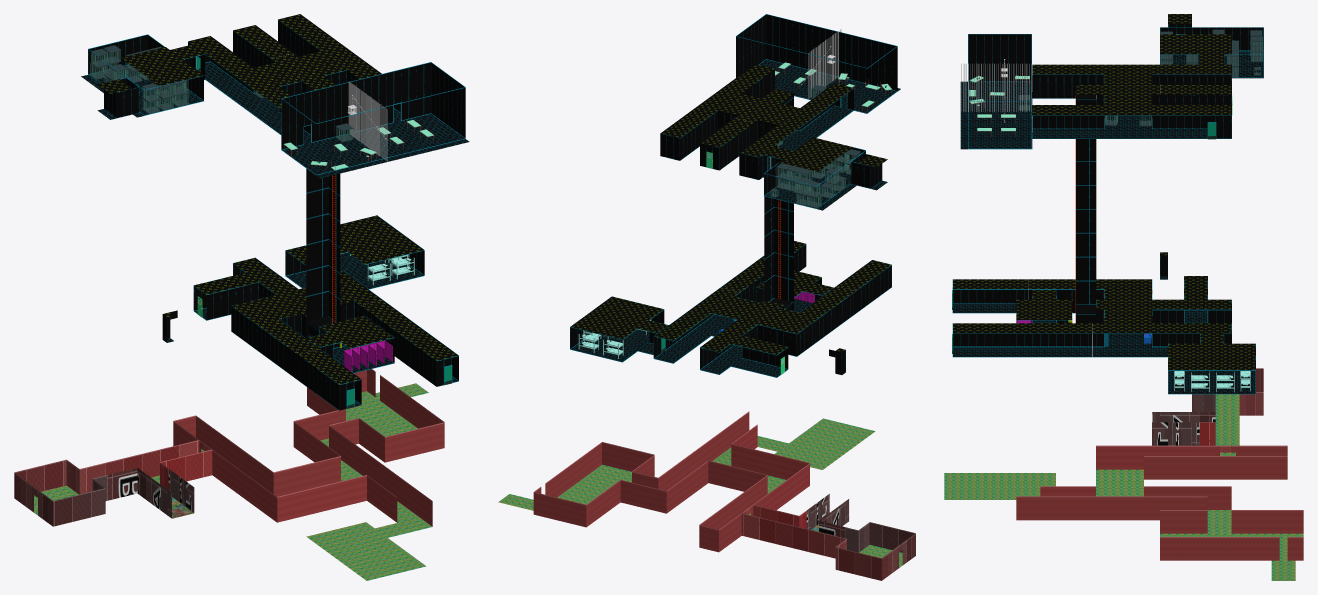
The model's file is house_build_ver2.glb.
The picture shows the model from 3 angles, left to right: view 1: azimuth 30°, elevation 25°; view 2: azimuth 150°, elevation 25°; view 3: azimuth 270°, elevation 25°; orthographic projection. The views are drawn at different scales.
Visible parts, largest first — view 1: 000-malli, wall_2, roof, roof_2, floor_2, wall, outer_shaft.003, floor, Board.002, Board; view 2: 000-malli, wall_2, roof, roof_2, wall, floor_2, floor, outer_shaft.003, Board.002, Board; view 3: 000-malli, roof, wall_2, roof_2, floor_2, floor, wall, outer_shaft.003, Board, Board.002.
Boxes of the visible parts, x1,y1,x2,y2 form: 000-malli: (14, 369, 444, 580); wall_2: (88, 20, 465, 149); roof: (194, 215, 458, 384); roof_2: (98, 14, 381, 109); floor_2: (89, 62, 469, 178); wall: (193, 250, 458, 410); outer_shaft.003: (306, 84, 340, 322); floor: (194, 252, 457, 406); Board.002: (88, 20, 465, 175); Board: (194, 215, 458, 409); 000-malli: (498, 411, 915, 580); wall_2: (660, 14, 897, 195); roof: (571, 241, 891, 354); roof_2: (660, 64, 887, 171); wall: (570, 244, 891, 369); floor_2: (759, 59, 900, 208); floor: (571, 298, 812, 377); outer_shaft.003: (764, 93, 793, 310); Board.002: (661, 14, 897, 208); Board: (570, 244, 891, 377); 000-malli: (944, 368, 1303, 580); roof: (952, 276, 1255, 370); wall_2: (968, 27, 1263, 138); roof_2: (1032, 14, 1231, 115); floor_2: (960, 51, 1263, 149); floor: (952, 303, 1255, 393); wall: (953, 290, 1231, 346); outer_shaft.003: (1076, 95, 1096, 322); Board: (952, 276, 1255, 394); Board.002: (968, 24, 1263, 149).
Size of what is drawn, in the model's own units: 56 by 58.43 by 45.
58 materials, 57 textured.
